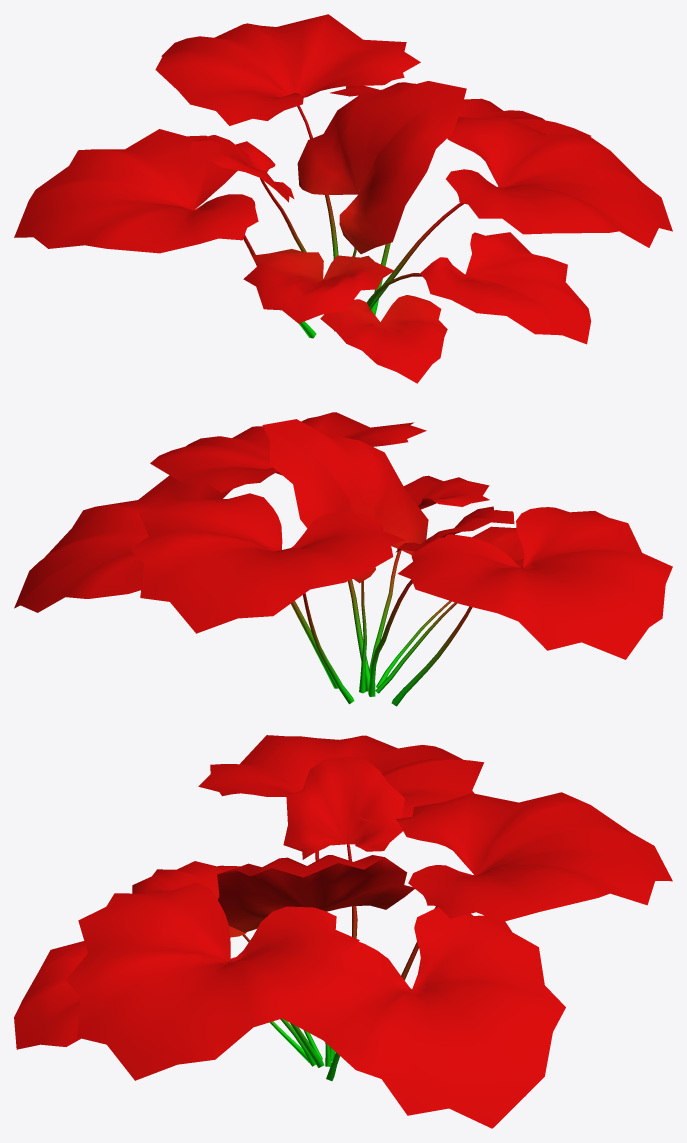
The model's file is Coltsfoot_LOD1_Var9_xbtkdfvqx.fbx.
The picture shows the model from 3 angles, top to bottom: view 1: azimuth 30°, elevation 25°; view 2: azimuth 150°, elevation 25°; view 3: azimuth 270°, elevation 25°; orthographic projection. The views are drawn at different scales.
Visible parts, largest first — view 1: _fqk8_Var9_LOD1; view 2: _fqk8_Var9_LOD1; view 3: _fqk8_Var9_LOD1.
Boxes of the visible parts, bbox=[...] form: _fqk8_Var9_LOD1: bbox=[14, 14, 672, 383]; _fqk8_Var9_LOD1: bbox=[14, 412, 672, 706]; _fqk8_Var9_LOD1: bbox=[14, 735, 672, 1128].
Size of the model in its own units: 67.25 by 25.74 by 61.02.
